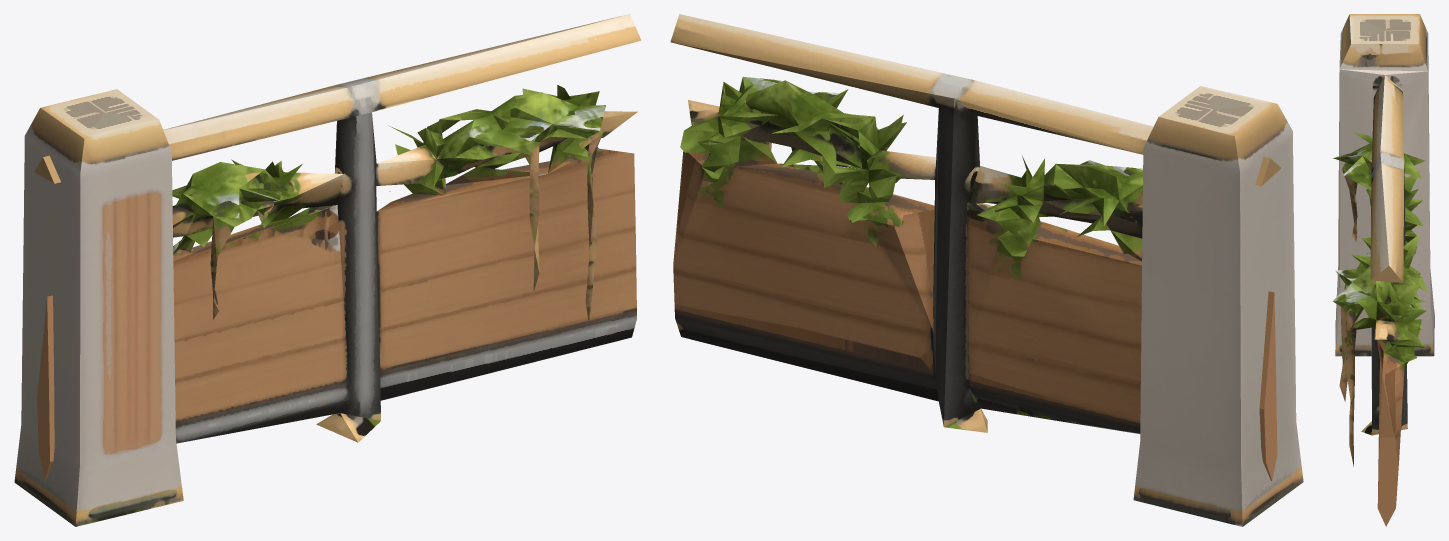
The model's file is railing.glb.
3 renders of one model, left to right at view 1: azimuth 30°, elevation 25°; view 2: azimuth 150°, elevation 25°; view 3: azimuth 270°, elevation 25°, orthographic. The views are drawn at different scales.
Parts seen in each view (by area): view 1: body; view 2: body; view 3: body.
Boxes of the visible parts, x1,y1,x2,y2 form: body: (14,14,641,526); body: (670,14,1303,526); body: (1332,14,1434,526).
Size of the model in its own units: 2 by 1.23 by 0.3711.
1 material, 1 textured.
